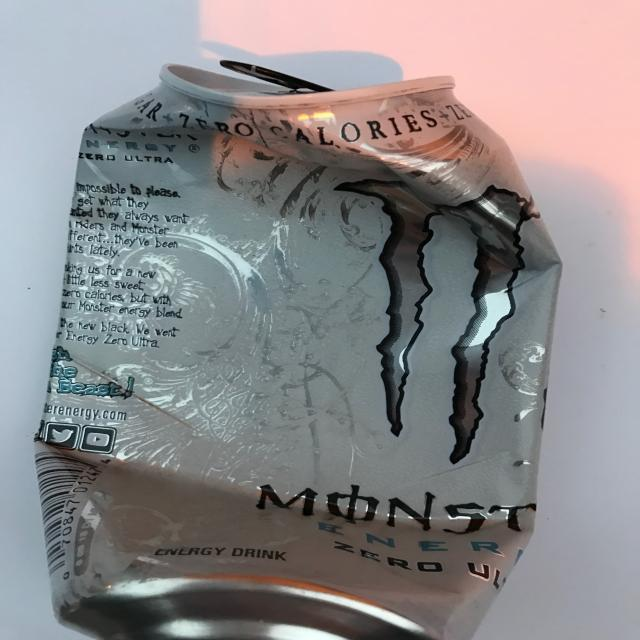metal: (34, 56, 562, 640)
